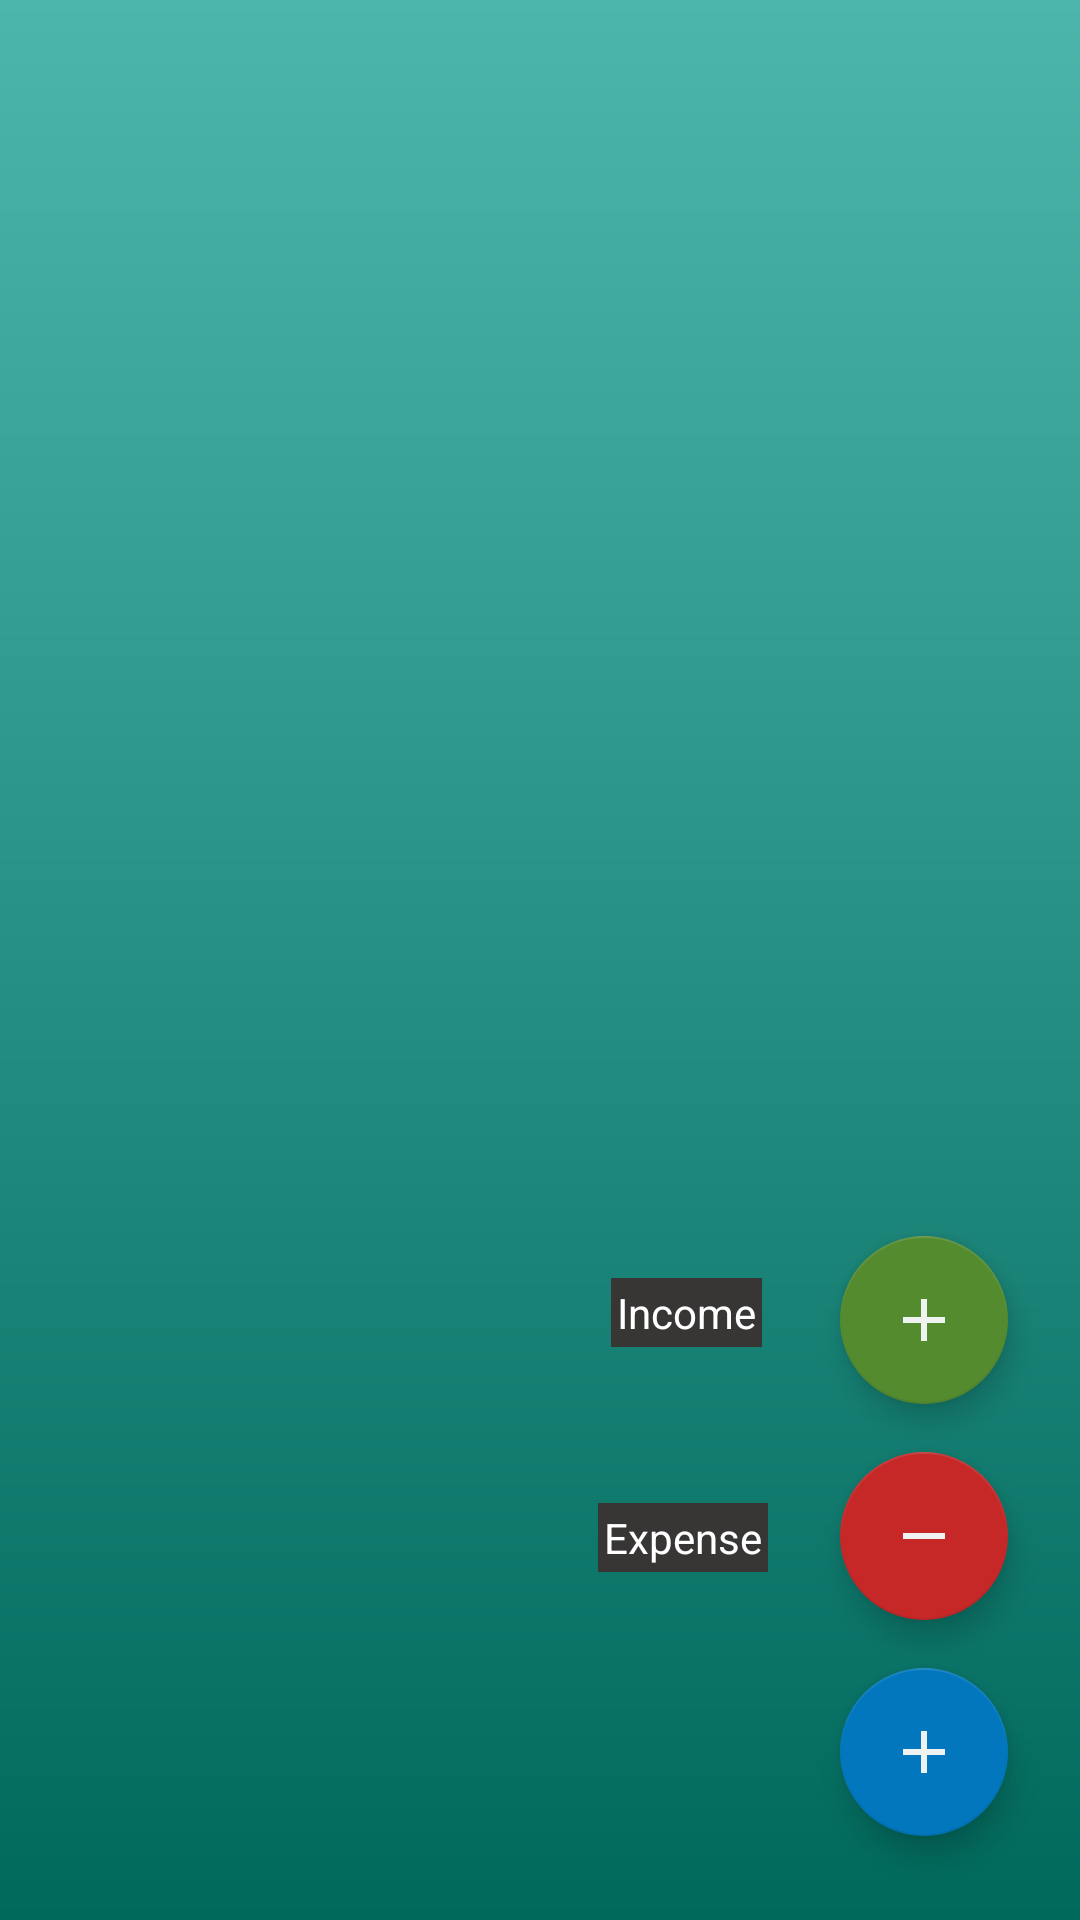

Where to tap for icons on this 1080x1920 app screen, as [x,y]:
add: [924,1320], [924,1752]
remove: [924,1536]
